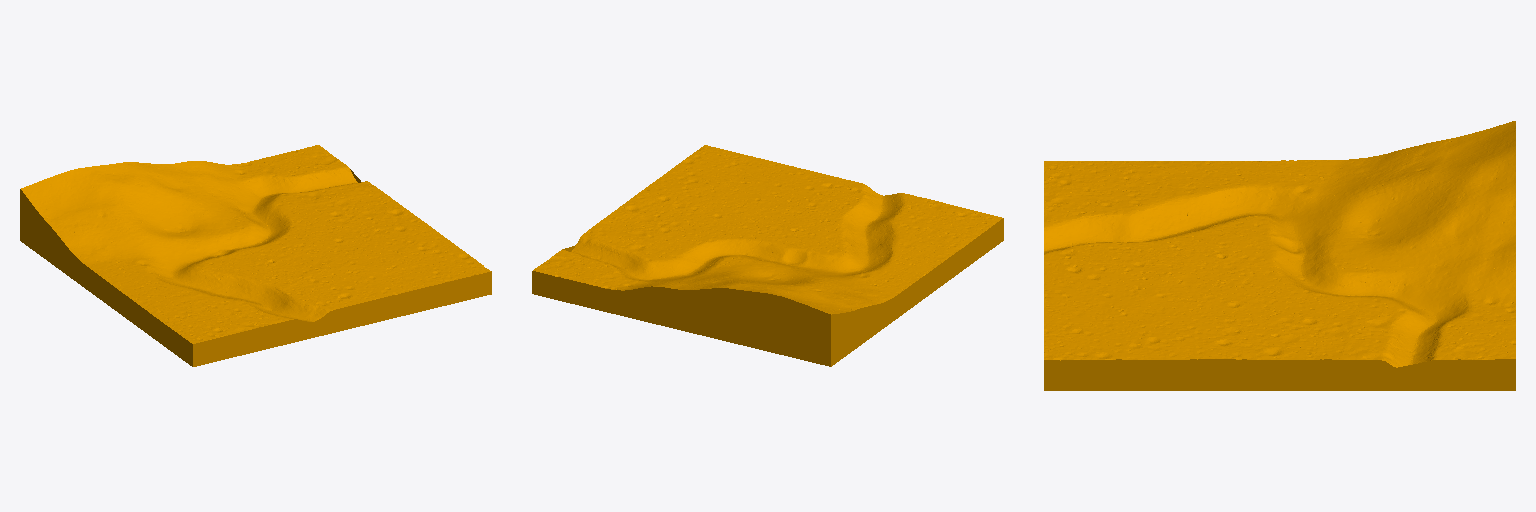
robot.urdf — myfirst:
<?xml version="1.0"?>
<robot name="myfirst">
  <link name="base_link">
    <visual>
      <geometry>
      	<mesh filename="package://scarab_description/meshes/terrain/hadley.dae"/>
      </geometry>
       <origin rpy="0 0 0" xyz="0 0 0"/>
    </visual>
  </link>
</robot>

--- Facts derived from the render (not from the file) ---
The picture shows the robot from 3 angles, left to right: view 1: azimuth 30°, elevation 25°; view 2: azimuth 150°, elevation 25°; view 3: azimuth 270°, elevation 25°; orthographic projection.
Robot: myfirst — 1 links, 0 joints (none); root link base_link; default pose: every joint at zero.
Links seen in each view (by area): view 1: base_link; view 2: base_link; view 3: base_link.
Boxes of the visible links, x1,y1,x2,y2 form: base_link: (20,145,491,366); base_link: (532,145,1003,366); base_link: (1044,121,1515,390).
Size in the robot's own frame: 304 by 304 by 56.97 metres.
Meshes: 1 distinct files referenced, 1 mesh visuals loaded (1 Collada DAE).
